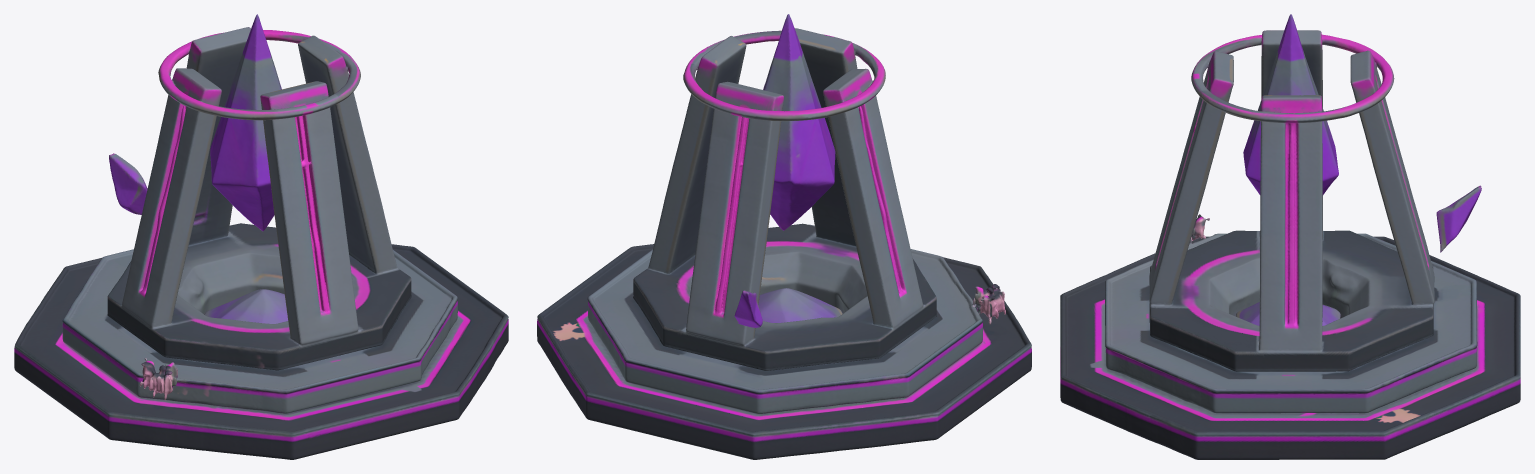
The model's file is nexus.glb.
The picture shows the model from 3 angles, left to right: view 1: azimuth 30°, elevation 25°; view 2: azimuth 150°, elevation 25°; view 3: azimuth 270°, elevation 25°; orthographic projection.
Parts seen in each view (by area): view 1: tripo_node_43700713-3e29-4f96-a1e9-883aab3f6b6a; view 2: tripo_node_43700713-3e29-4f96-a1e9-883aab3f6b6a; view 3: tripo_node_43700713-3e29-4f96-a1e9-883aab3f6b6a.
Boxes of the visible parts, <box> form: tripo_node_43700713-3e29-4f96-a1e9-883aab3f6b6a: <box>14,14,508,459</box>; tripo_node_43700713-3e29-4f96-a1e9-883aab3f6b6a: <box>537,14,1031,459</box>; tripo_node_43700713-3e29-4f96-a1e9-883aab3f6b6a: <box>1060,14,1520,459</box>.
Size of the model in its own units: 0.9547 by 1 by 0.9425.
1 material, 1 textured.
